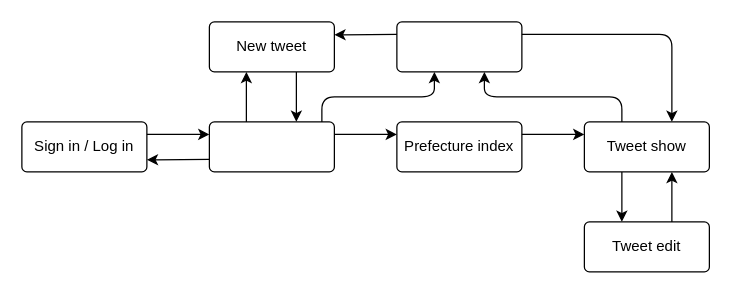
The diagram is 731 pixels wide and 294 high, and some of its shapes have lost their labels. The box of each missing label's shape, as (x1, y1, x2, y2) in pixels:
Top page: (208, 121, 334, 172)
User my page: (396, 21, 522, 72)
